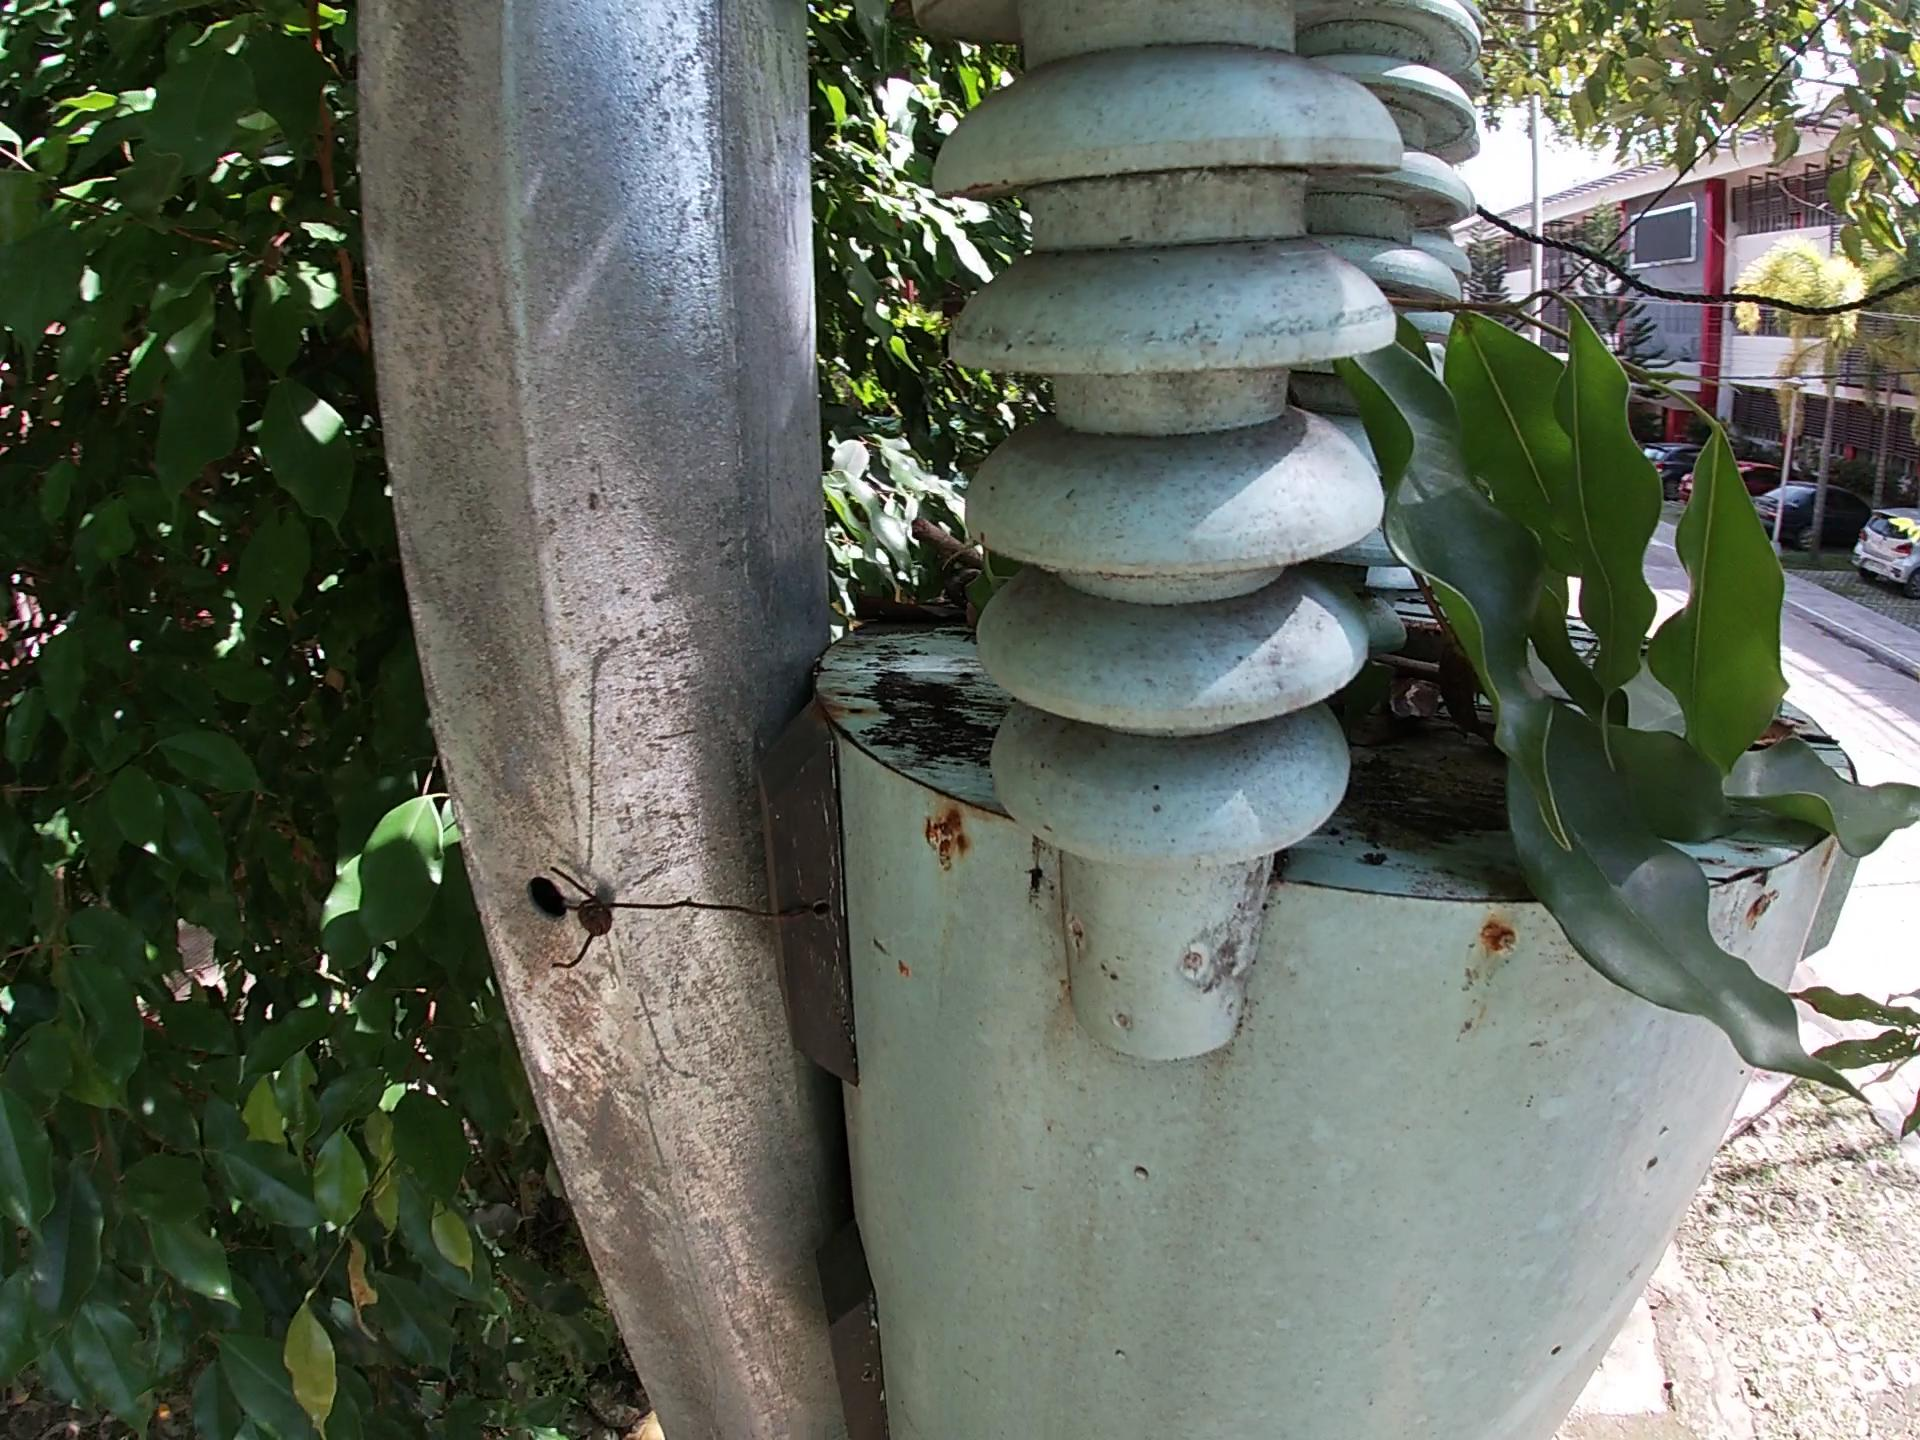branch with leaves: (1326, 251, 1900, 1171)
leaf: (856, 575, 943, 638)
mahogany fruit: (1335, 611, 1459, 685)
tree branch: (931, 551, 1001, 597), (909, 516, 972, 551)
